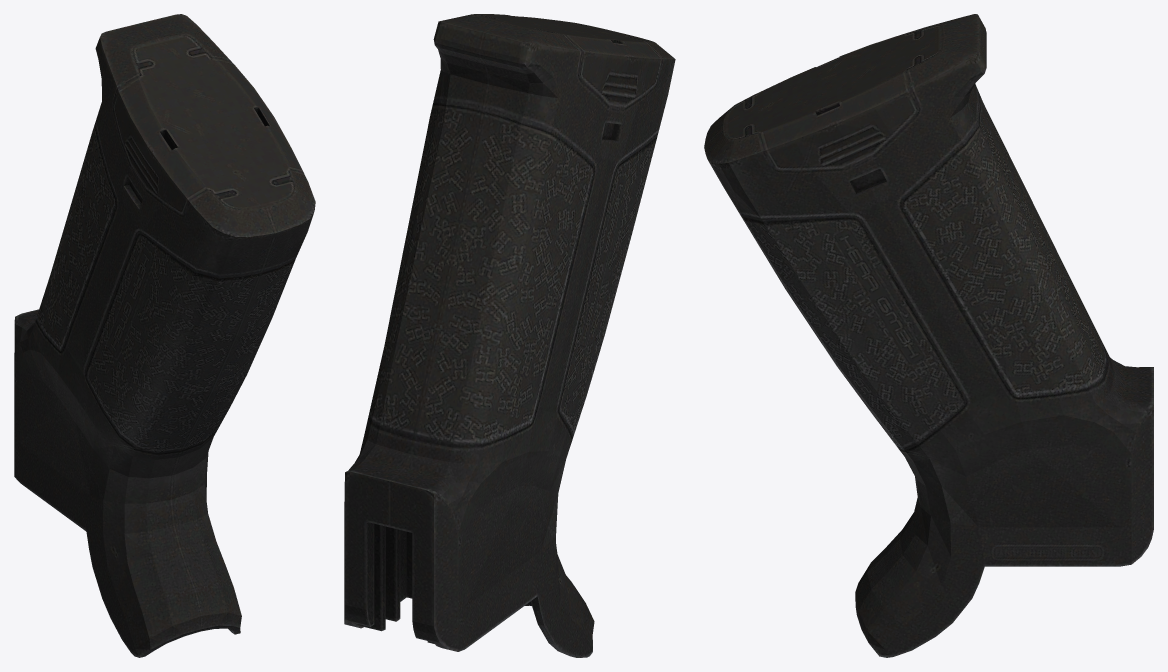
3 views of the same model, side by side, from view 1: azimuth 30°, elevation 25°; view 2: azimuth 150°, elevation 25°; view 3: azimuth 270°, elevation 25° (orthographic). The views are drawn at different scales.
Visible parts, largest first — view 1: TW_5cc9bcaed7f00c011c04e179_PZ_Import; view 2: TW_5cc9bcaed7f00c011c04e179_PZ_Import; view 3: TW_5cc9bcaed7f00c011c04e179_PZ_Import.
Boxes of the visible parts, left/top/right/bottom form: TW_5cc9bcaed7f00c011c04e179_PZ_Import: left=14, top=14, right=315, bottom=657; TW_5cc9bcaed7f00c011c04e179_PZ_Import: left=344, top=14, right=675, bottom=657; TW_5cc9bcaed7f00c011c04e179_PZ_Import: left=704, top=14, right=1153, bottom=657.
Bounding box in the file's own units: 0.0163 × 0.0494 × 0.0725.
Materials: 1 (1 with a texture image).
